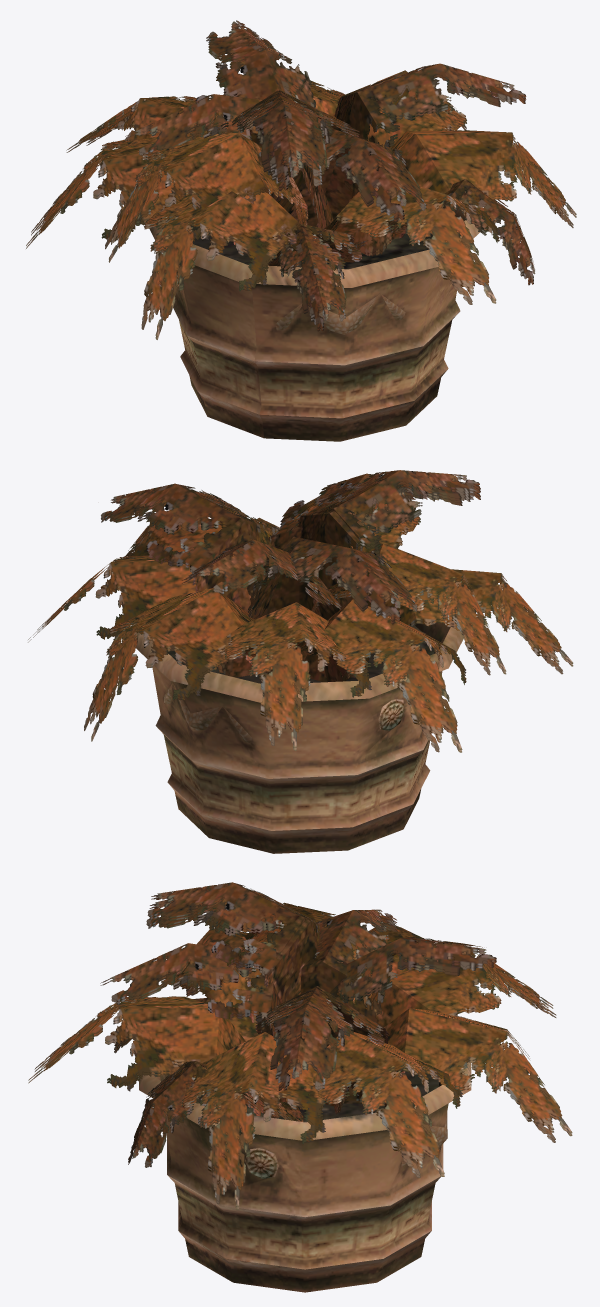
Rendered from pot_plant_small01_red.dae.
3 views of the same model, one above another, from view 1: azimuth 30°, elevation 25°; view 2: azimuth 150°, elevation 25°; view 3: azimuth 270°, elevation 25° (orthographic). The views are drawn at different scales.
Visible parts, largest first — view 1: Scene_Root; view 2: Scene_Root; view 3: Scene_Root.
Part boxes in pixels (left/top/right/bottom): Scene_Root: left=26, top=20, right=576, bottom=441; Scene_Root: left=28, top=470, right=573, bottom=853; Scene_Root: left=28, top=882, right=572, bottom=1292.
Size of the model in its own units: 0.8846 by 0.9235 by 0.5815.
